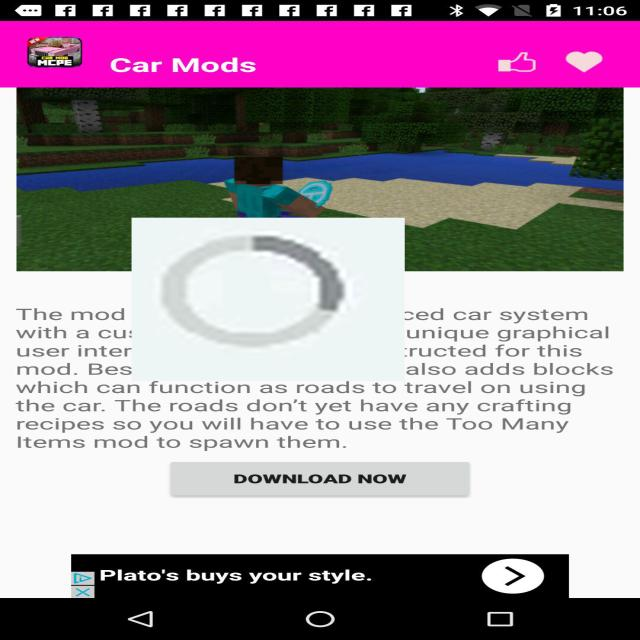misdirection: (132, 218, 404, 381)
